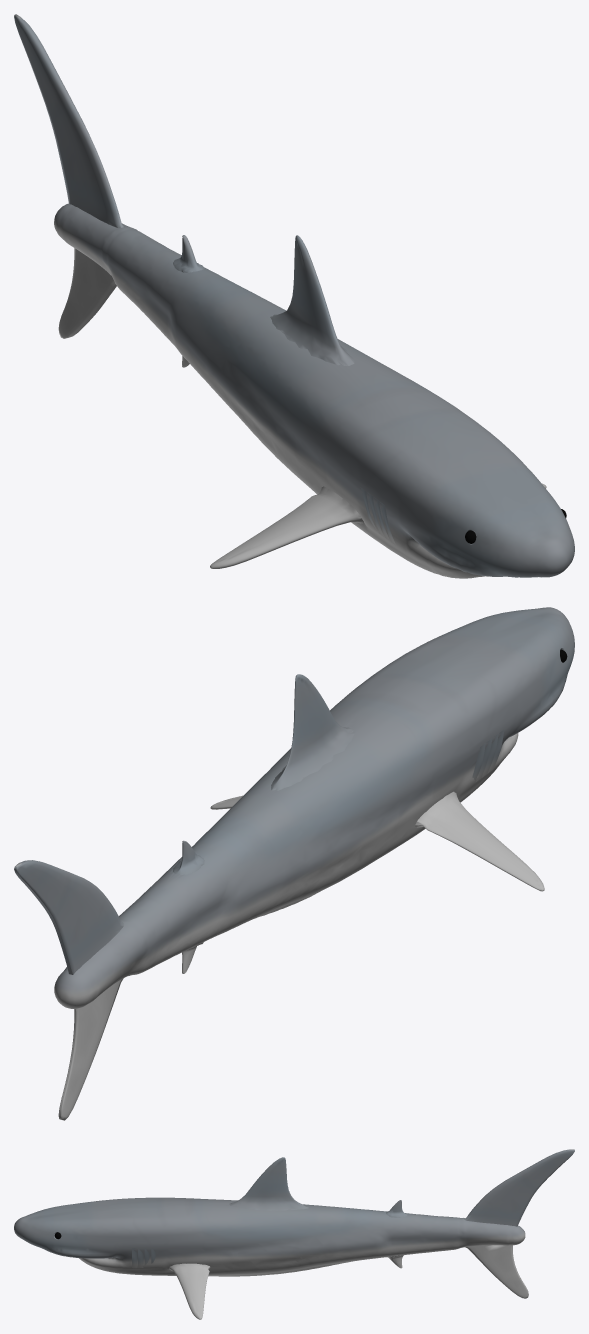
File: requin.obj
3 views of the same model, one above another, from view 1: azimuth 30°, elevation 25°; view 2: azimuth 150°, elevation 25°; view 3: azimuth 270°, elevation 25° (orthographic). The views are drawn at different scales.
Parts seen in each view (by area): view 1: Shark; view 2: Shark; view 3: Shark.
Boxes of the visible parts, box(x1,y1,x2,y2) form: Shark: box(14, 14, 574, 578); Shark: box(14, 607, 574, 1120); Shark: box(14, 1149, 574, 1319).
Size of the model in its own units: 3.86 by 3.18 by 10.87.
Materials: 4 (2 with a texture image).
